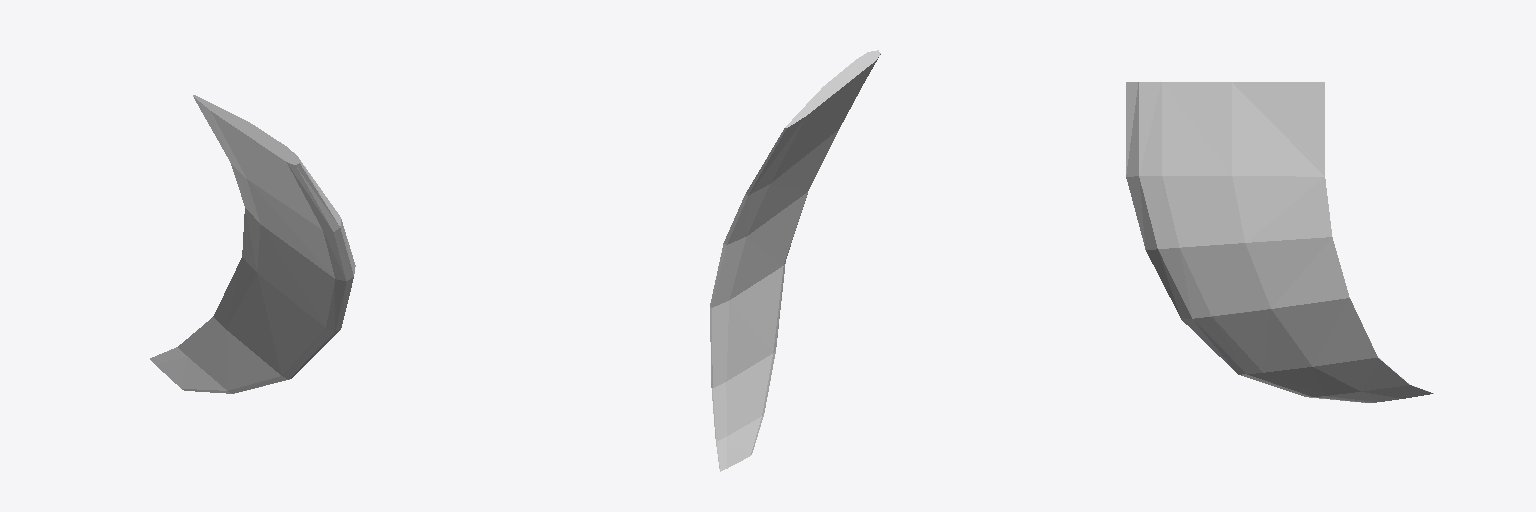
The model's file is playerspaceship_wingBig_left.obj.
The picture shows the model from 3 angles: view 1: azimuth 30°, elevation 25°; view 2: azimuth 150°, elevation 25°; view 3: azimuth 270°, elevation 25°; orthographic projection.
Parts seen in each view (by area): view 1: Wing.002_Cylinder.003; view 2: Wing.002_Cylinder.003; view 3: Wing.002_Cylinder.003.
Boxes of the visible parts, box(x1,y1,x2,y2) form: Wing.002_Cylinder.003: box(150, 95, 355, 393); Wing.002_Cylinder.003: box(710, 50, 880, 471); Wing.002_Cylinder.003: box(1126, 82, 1433, 402).
Bounding box in the file's own units: 3.62 × 13.18 × 11.51.